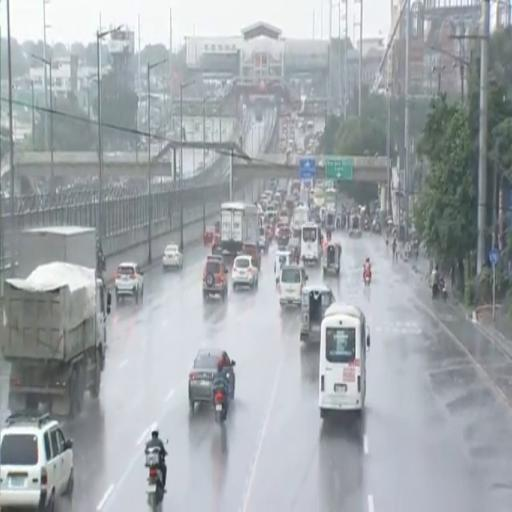bus: (319, 302, 369, 419), (324, 187, 337, 208)
car: (0, 412, 73, 510), (189, 348, 235, 410), (278, 265, 307, 307), (115, 262, 143, 303), (203, 259, 227, 300), (232, 255, 258, 290), (162, 245, 182, 270), (207, 254, 223, 262)
motorcycle: (146, 447, 164, 511), (214, 390, 227, 423), (439, 279, 447, 300), (432, 283, 439, 299), (364, 272, 371, 285)
truck: (0, 262, 110, 418), (15, 226, 110, 301), (16, 226, 97, 277), (221, 202, 258, 257)
